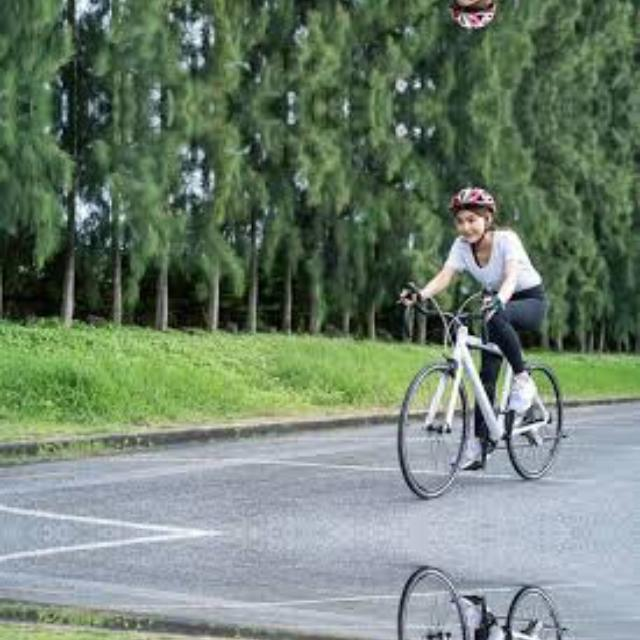obstacle: (353, 278, 594, 512), (353, 554, 594, 640)
